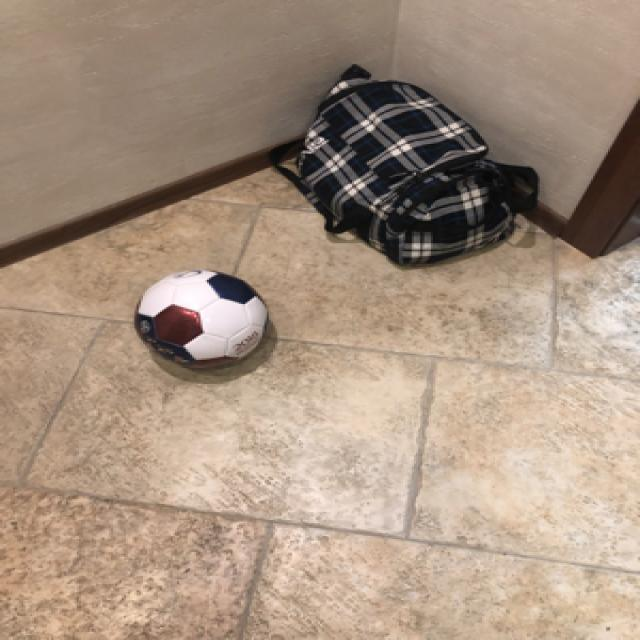soccer_ball: (128, 264, 269, 370)
